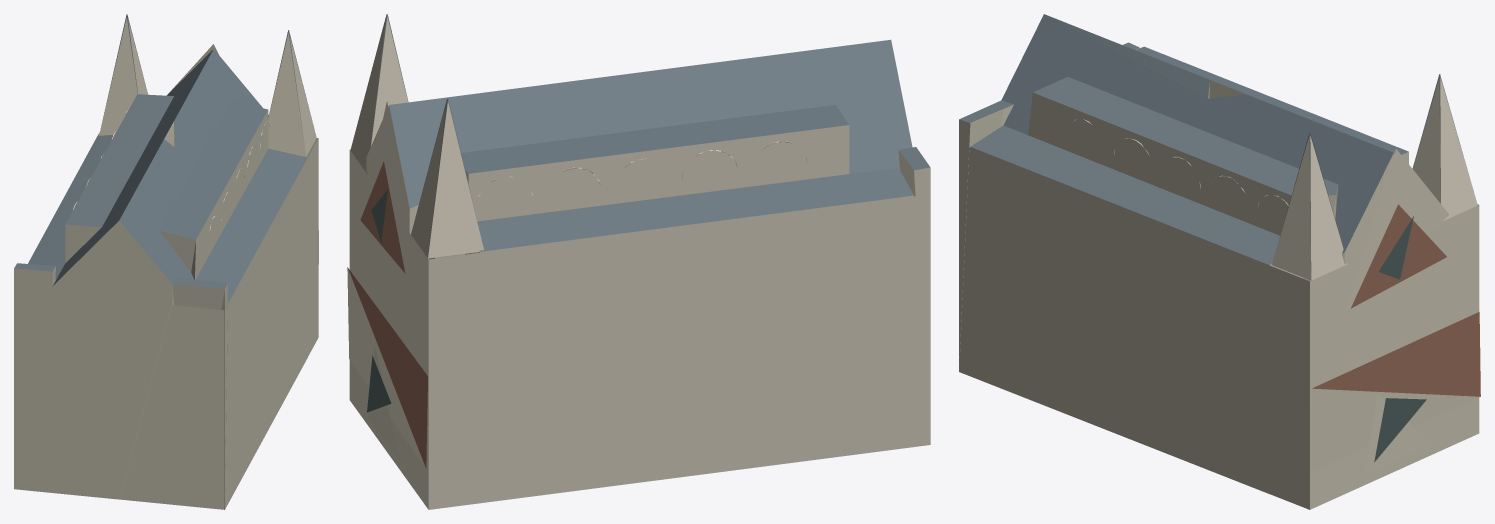
Rendered from keizersgrachtkerk.lod2.glb.
3 renders of one model, left to right at view 1: azimuth 30°, elevation 25°; view 2: azimuth 150°, elevation 25°; view 3: azimuth 270°, elevation 25°, orthographic. The views are drawn at different scales.
Visible parts, largest first — view 1: lod2; view 2: lod2; view 3: lod2.
Part boxes in pixels (box(x1,y1,x2,y2)): lod2: box(14, 14, 318, 509); lod2: box(347, 14, 930, 509); lod2: box(959, 14, 1480, 509).
Bounding box in the file's own units: 30.26 × 23.67 × 31.02.
